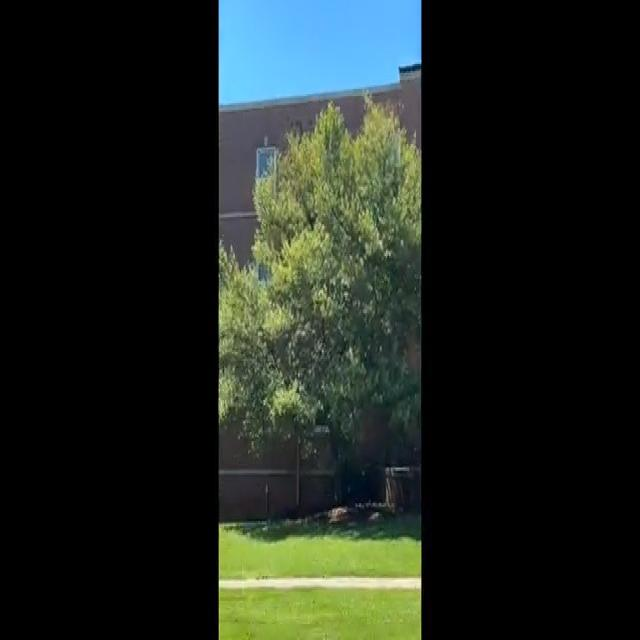drone: (303, 286, 331, 309)
